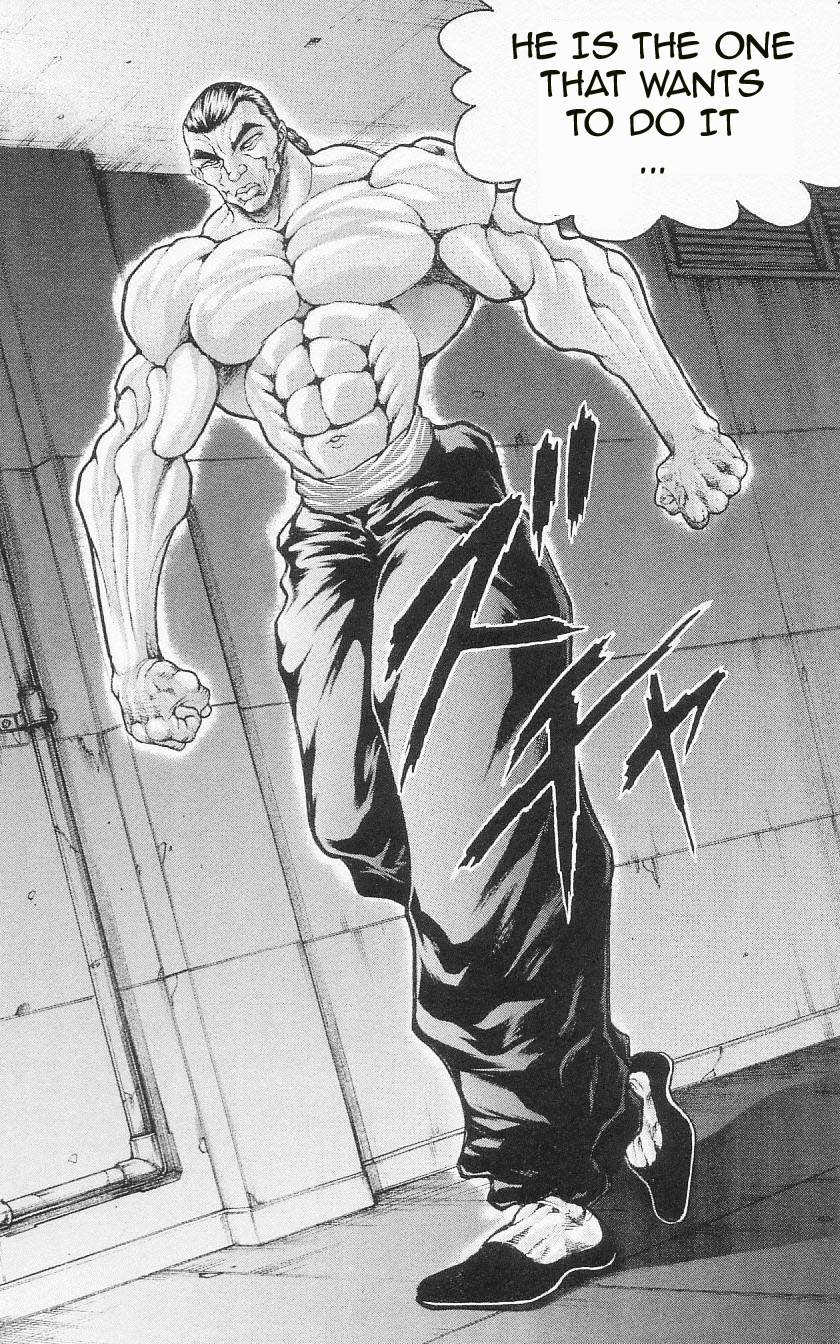Baloon: (435, 1, 840, 241)
Vignetta: (8, 1, 840, 1344)
